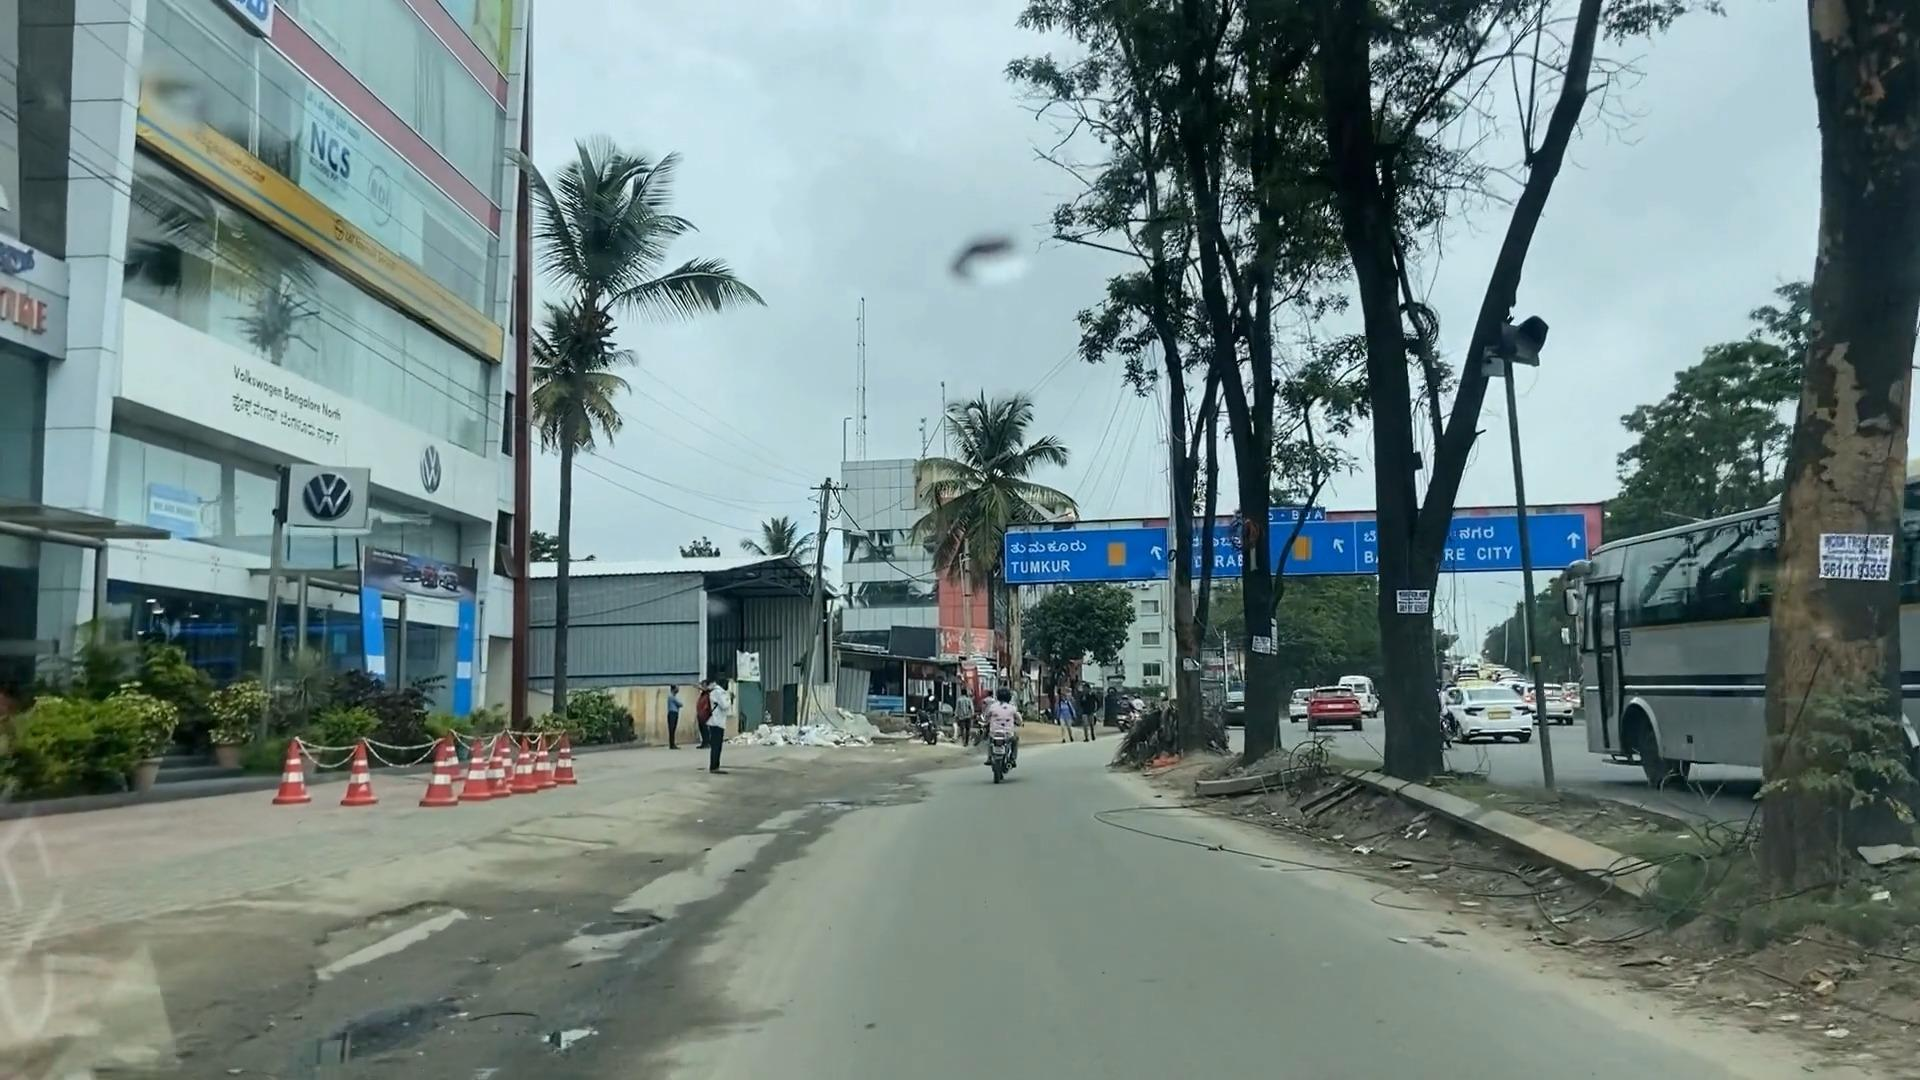RoadDamages: (286, 997, 621, 1080), (266, 901, 497, 993), (563, 914, 687, 997)
